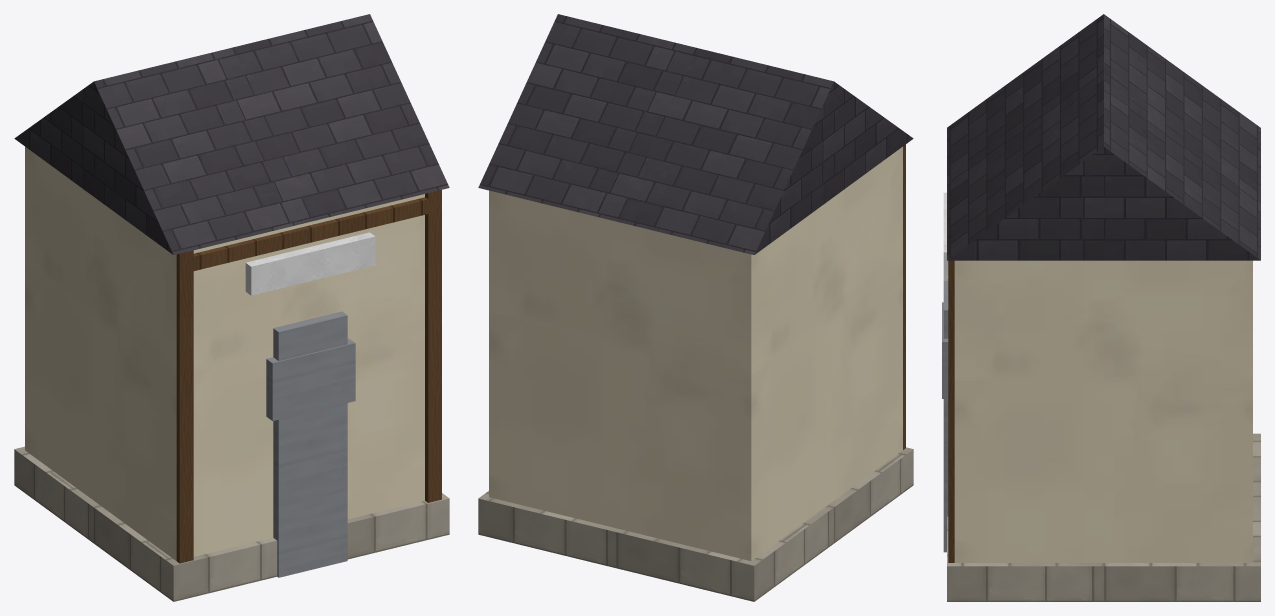
Rendered from category.lending.t0.glb.
3 views of the same model, side by side, from view 1: azimuth 30°, elevation 25°; view 2: azimuth 150°, elevation 25°; view 3: azimuth 270°, elevation 25° (orthographic).
Parts seen in each view (by area): view 1: building.category.lending.t0; view 2: building.category.lending.t0; view 3: building.category.lending.t0.
Boxes of the visible parts, x1,y1,x2,y2 form: building.category.lending.t0: (14, 14, 449, 601); building.category.lending.t0: (478, 14, 913, 601); building.category.lending.t0: (942, 14, 1260, 601).
Size of the model in its own units: 2 by 3.2 by 2.03.
Materials: 6 (6 with a texture image).
